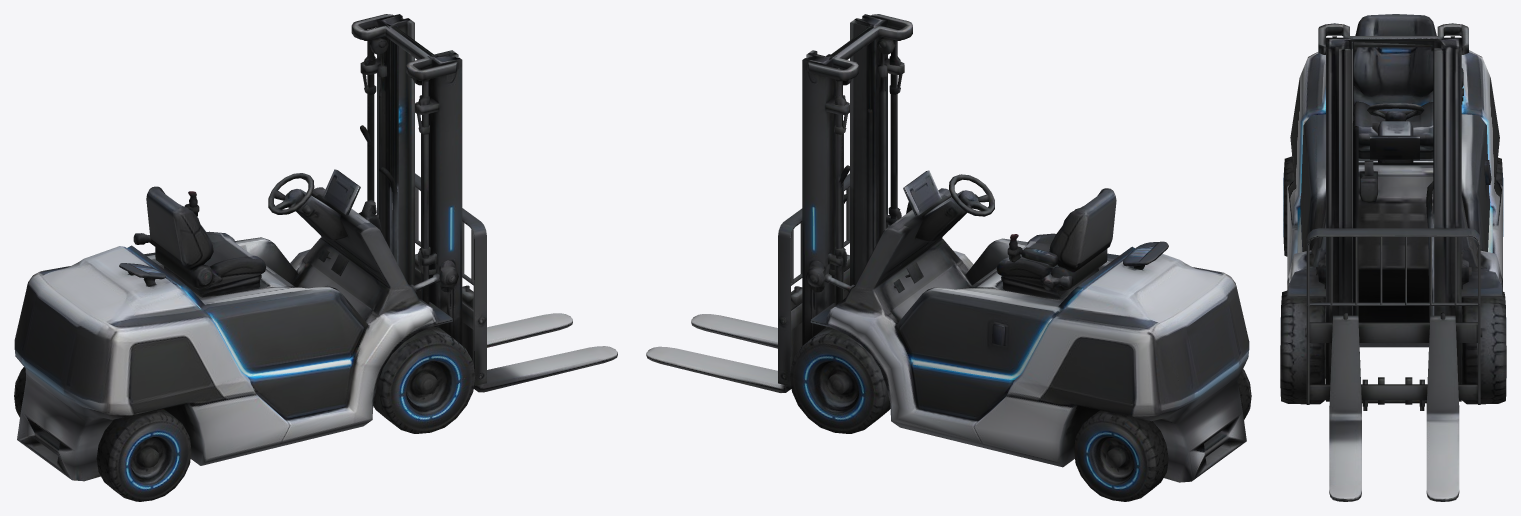
File: forklift.glb
3 renders of one model, left to right at view 1: azimuth 30°, elevation 25°; view 2: azimuth 150°, elevation 25°; view 3: azimuth 270°, elevation 25°, orthographic. The views are drawn at different scales.
Visible parts, largest first — view 1: tripo_node_138cc602-d3b3-433b-989d-9595d086e635; view 2: tripo_node_138cc602-d3b3-433b-989d-9595d086e635; view 3: tripo_node_138cc602-d3b3-433b-989d-9595d086e635.
Part boxes in pixels (<box>): tripo_node_138cc602-d3b3-433b-989d-9595d086e635: <box>14,14,617,501</box>; tripo_node_138cc602-d3b3-433b-989d-9595d086e635: <box>646,14,1251,501</box>; tripo_node_138cc602-d3b3-433b-989d-9595d086e635: <box>1280,14,1506,501</box>.
Bounding box in the file's own units: 0.9995 × 0.6079 × 0.3296.
1 material, 1 textured.
